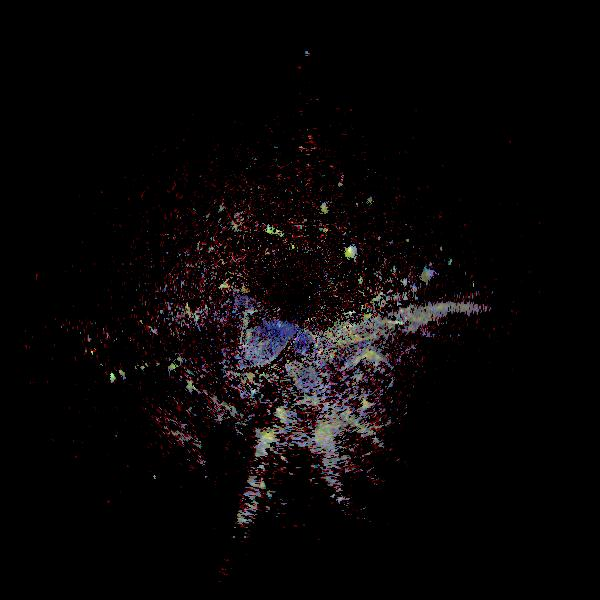roost: (105, 370, 120, 385), (264, 225, 276, 237), (345, 246, 357, 258)
